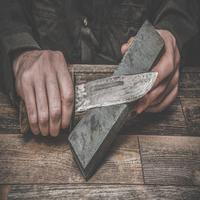knife: (13, 39, 180, 146)
